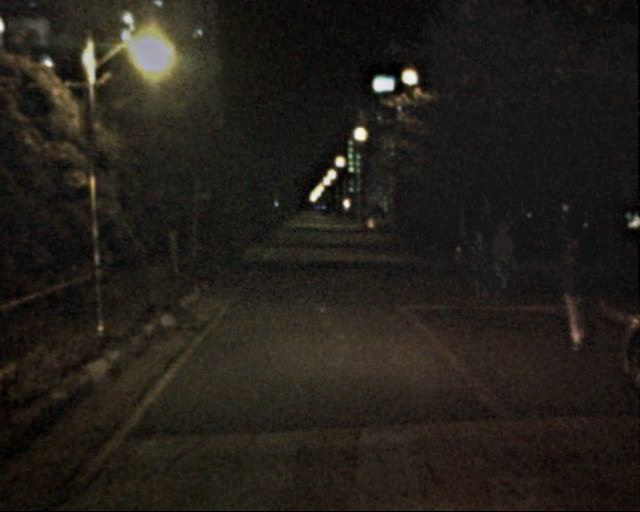person: (551, 233, 598, 347), (485, 222, 522, 303), (465, 228, 501, 303)
